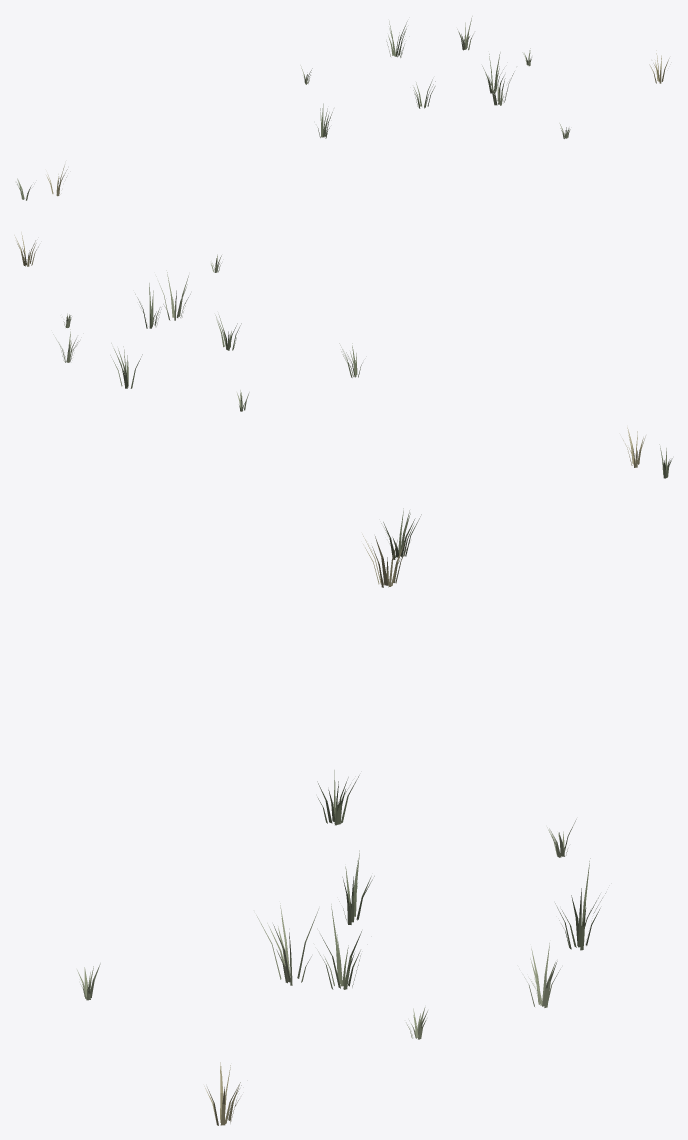
File: AE_Grass_-2_-4.fbx
3 renders of one model, top to bottom at view 1: azimuth 30°, elevation 25°; view 2: azimuth 150°, elevation 25°; view 3: azimuth 270°, elevation 25°, orthographic. The views are drawn at different scales.
Visible parts, largest first — view 1: AE_Grass_-2_-4_LOD0; view 2: AE_Grass_-2_-4_LOD0; view 3: AE_Grass_-2_-4_LOD0.
Boxes of the visible parts, left/top/right/bottom form: AE_Grass_-2_-4_LOD0: left=16, top=16, right=669, bottom=200; AE_Grass_-2_-4_LOD0: left=14, top=232, right=672, bottom=478; AE_Grass_-2_-4_LOD0: left=77, top=508, right=605, bottom=1125.
Size of what is drawn, in the model's own units: 1554 by 109 by 592.
